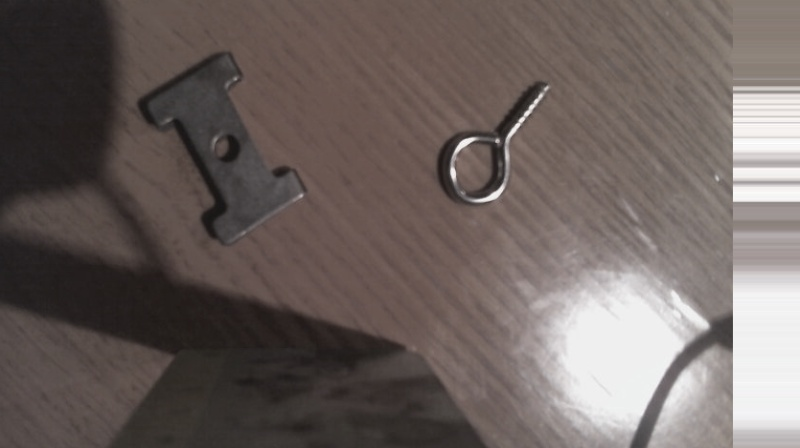O001: (439, 73, 552, 209)
O002: (140, 48, 309, 246)
